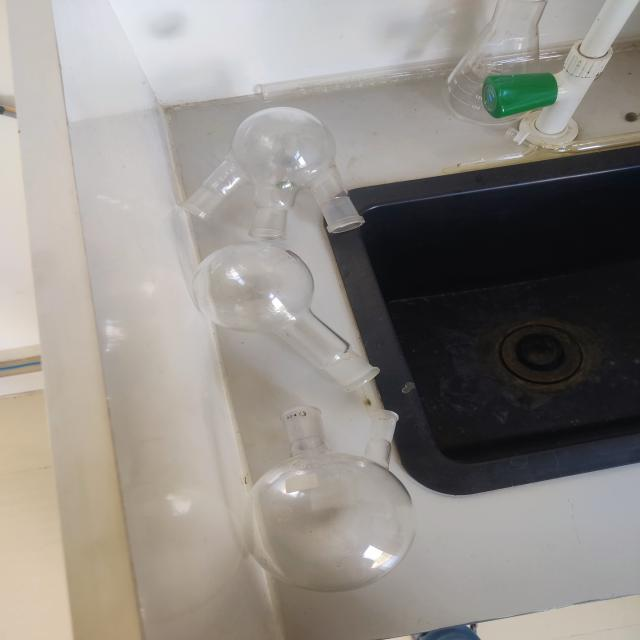Round_Bottom_Flask_Borosilicate_Glass_1_Neck: (154, 218, 401, 394)
Round_Bottom_Flask_Borosilicate_Glass_2_Neck: (205, 398, 463, 608)
Round_Bottom_Flask_Borosilicate_Glass_3_Neck: (160, 78, 388, 255)
